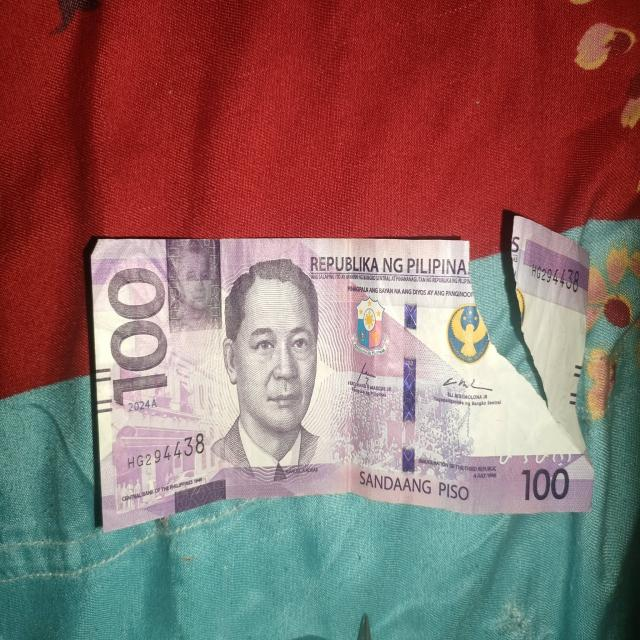broken: (89, 209, 599, 542)
torn: (452, 208, 575, 450)
